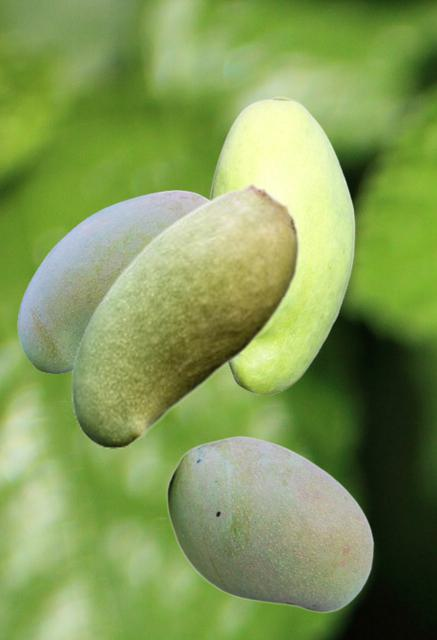green_mango: (70, 182, 299, 447), (208, 96, 354, 394), (166, 435, 373, 612), (17, 190, 207, 372)
